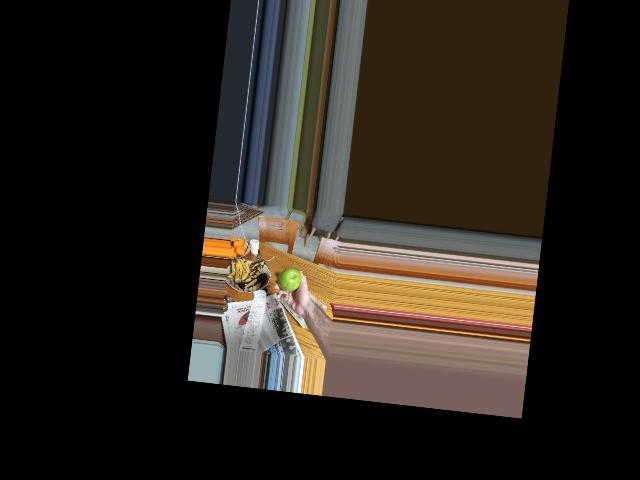apple: (277, 266, 302, 293)
